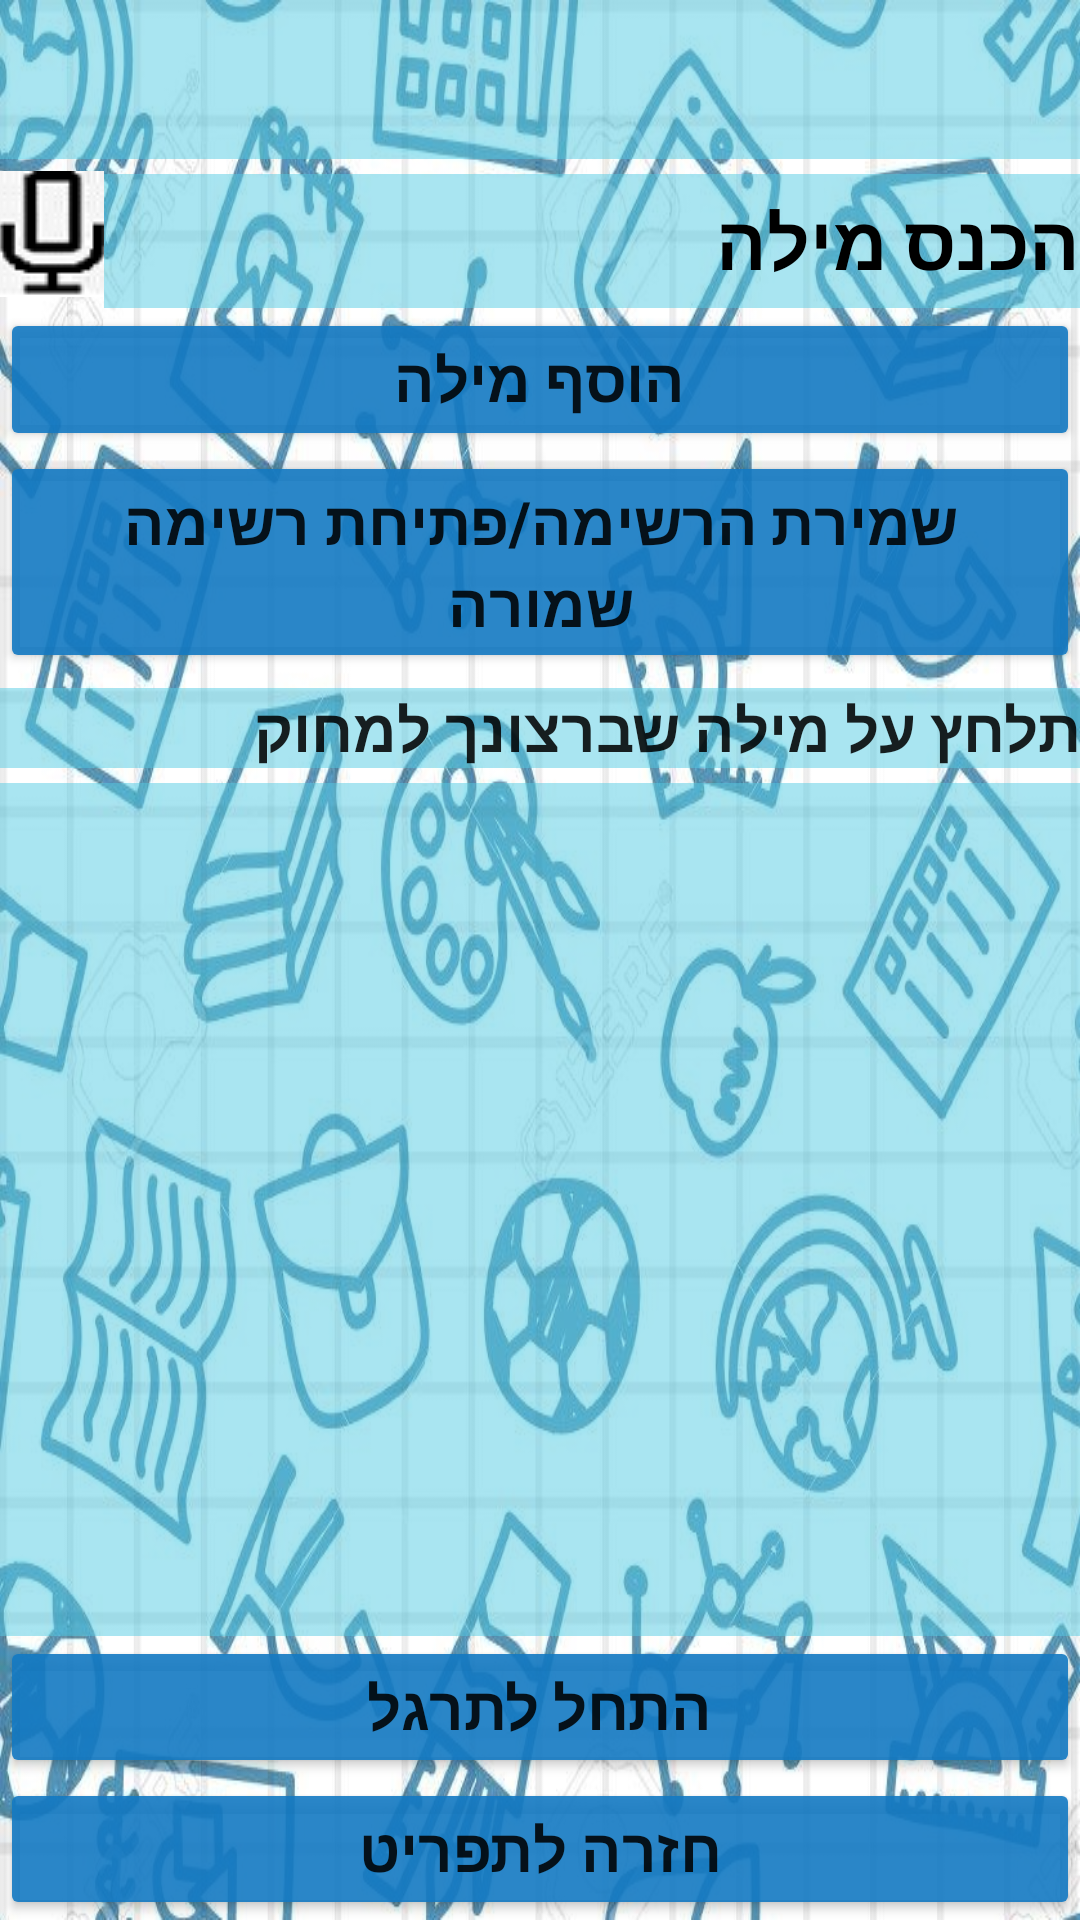

Screen size 1080w x 1920h. Icon name, then its center in pixels as (x=x, y=y):
micicon: (x=52, y=233)
